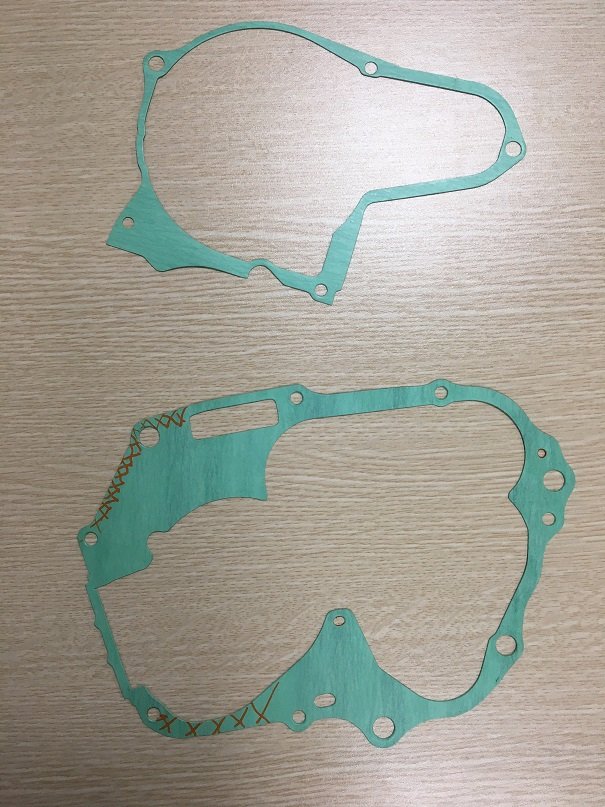type1: (99, 16, 535, 311)
type3: (61, 379, 585, 760)
